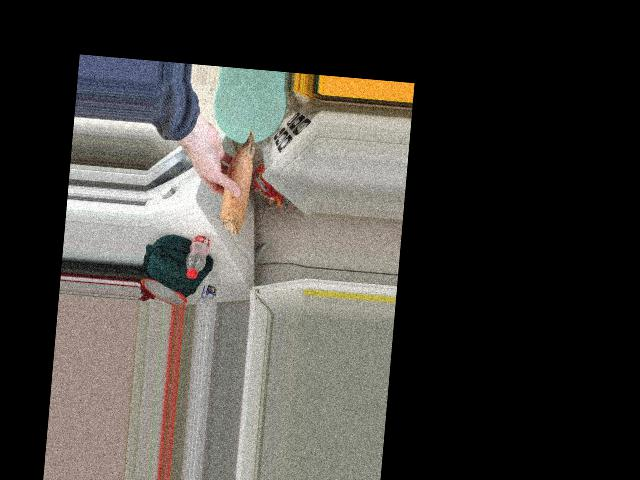sweet_potato: (212, 128, 258, 238)
